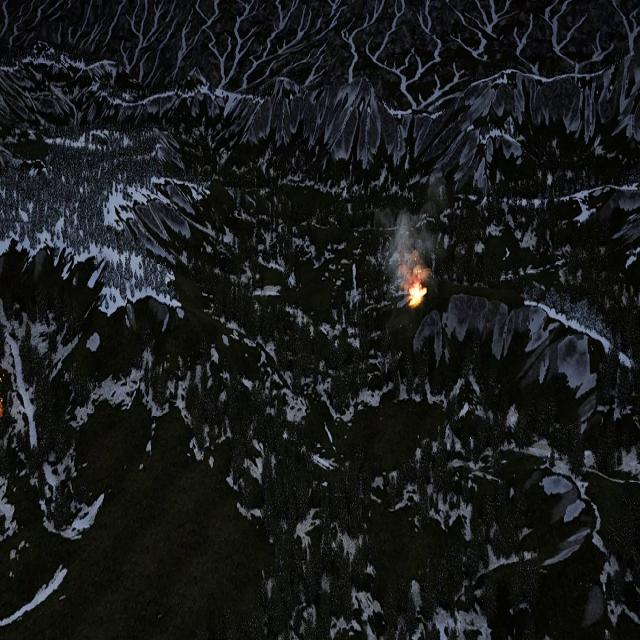fire: (409, 282, 427, 305)
smoke: (374, 174, 447, 294)
